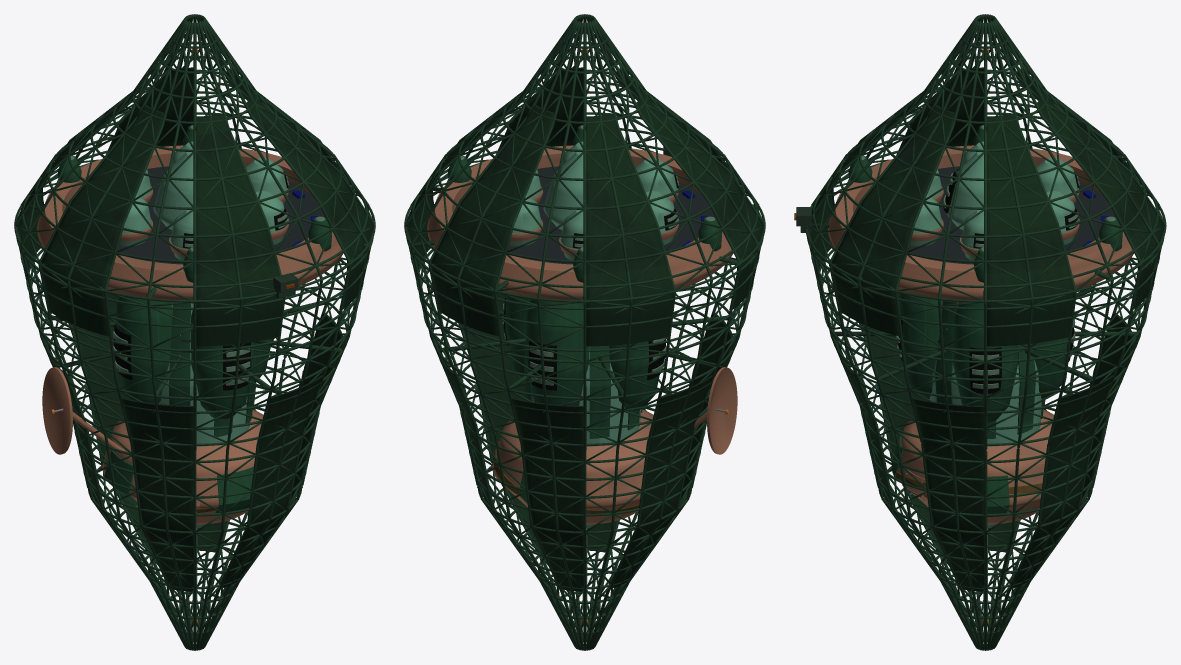
3 views of the same model, side by side, from view 1: azimuth 30°, elevation 25°; view 2: azimuth 150°, elevation 25°; view 3: azimuth 270°, elevation 25° (orthographic).
Parts seen in each view (by area): view 1: AR5C construction axial ribs, AR5C construction circumferential hoops, AR5C construction diagonal lattice, AR5C temporary green shield 8, AR5C temporary green shield 6, AR5C temporary green shield 7, Geostationary copper face rim, AR5C temporary green shield 9, AR5C temporary green shield 10, AR5C broad neck equipment shell 2, Geostationary copper aft shell, Geostationary dark backing face (+19 smaller); view 2: AR5C construction axial ribs, AR5C construction circumferential hoops, AR5C construction diagonal lattice, AR5C temporary green shield 4, AR5C temporary green shield 2, AR5C temporary green shield 3, Geostationary copper face rim, AR5C temporary green shield 5, AR5C temporary green shield 6, Geostationary copper aft shell, AR5C broad neck equipment shell 1, AR5C temporary green shield 11 (+18 smaller); view 3: AR5C construction axial ribs, AR5C construction circumferential hoops, AR5C construction diagonal lattice, AR5C temporary green shield 0, AR5C temporary green shield 10, AR5C temporary green shield 11, Geostationary copper face rim, AR5C temporary green shield 1, AR5C temporary green shield 2, Geostationary copper aft shell, AR5C broad neck equipment shell 0, Geostationary dark backing face (+18 smaller).
Part boxes in pixels (box(x1,y1,x2,y2)): AR5C construction axial ribs: box(14, 14, 375, 650); AR5C construction circumferential hoops: box(14, 35, 375, 634); AR5C construction diagonal lattice: box(15, 30, 374, 631); AR5C temporary green shield 8: box(195, 113, 282, 346); AR5C temporary green shield 6: box(41, 105, 164, 336); AR5C temporary green shield 7: box(121, 397, 194, 591); Geostationary copper face rim: box(37, 145, 343, 303); AR5C temporary green shield 9: box(222, 375, 323, 587); AR5C temporary green shield 10: box(246, 93, 373, 309); AR5C broad neck equipment shell 2: box(116, 296, 172, 403); Geostationary copper aft shell: box(102, 409, 263, 524); Geostationary dark backing face: box(117, 166, 325, 264); AR5C construction axial ribs: box(404, 14, 765, 650); AR5C construction circumferential hoops: box(404, 35, 765, 634); AR5C construction diagonal lattice: box(405, 30, 764, 631); AR5C temporary green shield 4: box(585, 113, 672, 346); AR5C temporary green shield 2: box(431, 105, 554, 336); AR5C temporary green shield 3: box(511, 397, 584, 591); Geostationary copper face rim: box(427, 145, 733, 303); AR5C temporary green shield 5: box(612, 375, 713, 587); AR5C temporary green shield 6: box(636, 93, 763, 309); Geostationary copper aft shell: box(492, 409, 653, 524); AR5C broad neck equipment shell 1: box(525, 299, 588, 405); AR5C temporary green shield 11: box(462, 293, 545, 560); AR5C construction axial ribs: box(809, 14, 1166, 650); AR5C construction circumferential hoops: box(805, 35, 1166, 634); AR5C construction diagonal lattice: box(808, 30, 1164, 631); AR5C temporary green shield 0: box(985, 113, 1073, 346); AR5C temporary green shield 10: box(832, 105, 954, 336); AR5C temporary green shield 11: box(912, 398, 985, 591); Geostationary copper face rim: box(828, 145, 1133, 303); AR5C temporary green shield 1: box(1013, 375, 1113, 587); AR5C temporary green shield 2: box(1037, 92, 1163, 309); Geostationary copper aft shell: box(898, 409, 1054, 524); AR5C broad neck equipment shell 0: box(953, 302, 1018, 421); Geostationary dark backing face: box(908, 166, 1115, 264).
Bounding box in the file's own units: 3.33 × 6.37 × 3.42.
14 materials, 11 textured.
